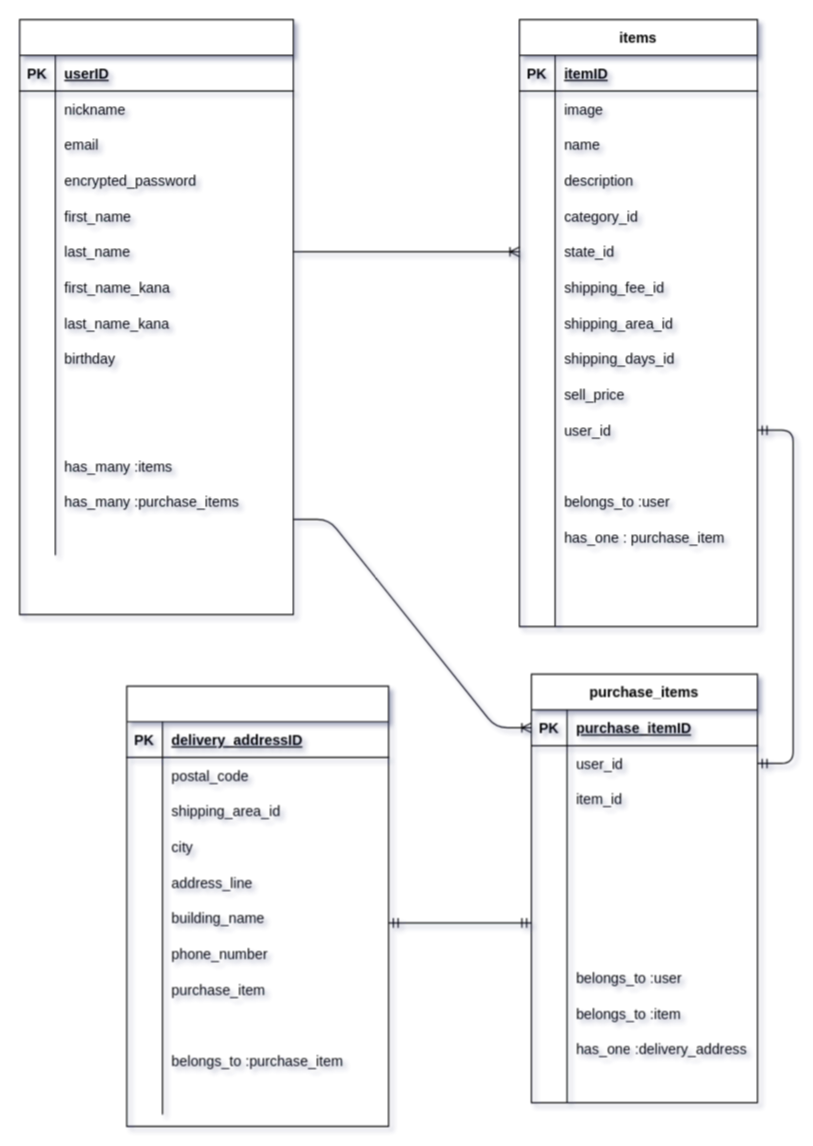
The diagram is 813 pixels wide and 1146 high, and some of its shapes have lost their labels. Here are the shapes that lost their labels. From the top down, the box of each, then its label:
(18, 18, 293, 615): users
(126, 685, 389, 1126): delivery_addresses
